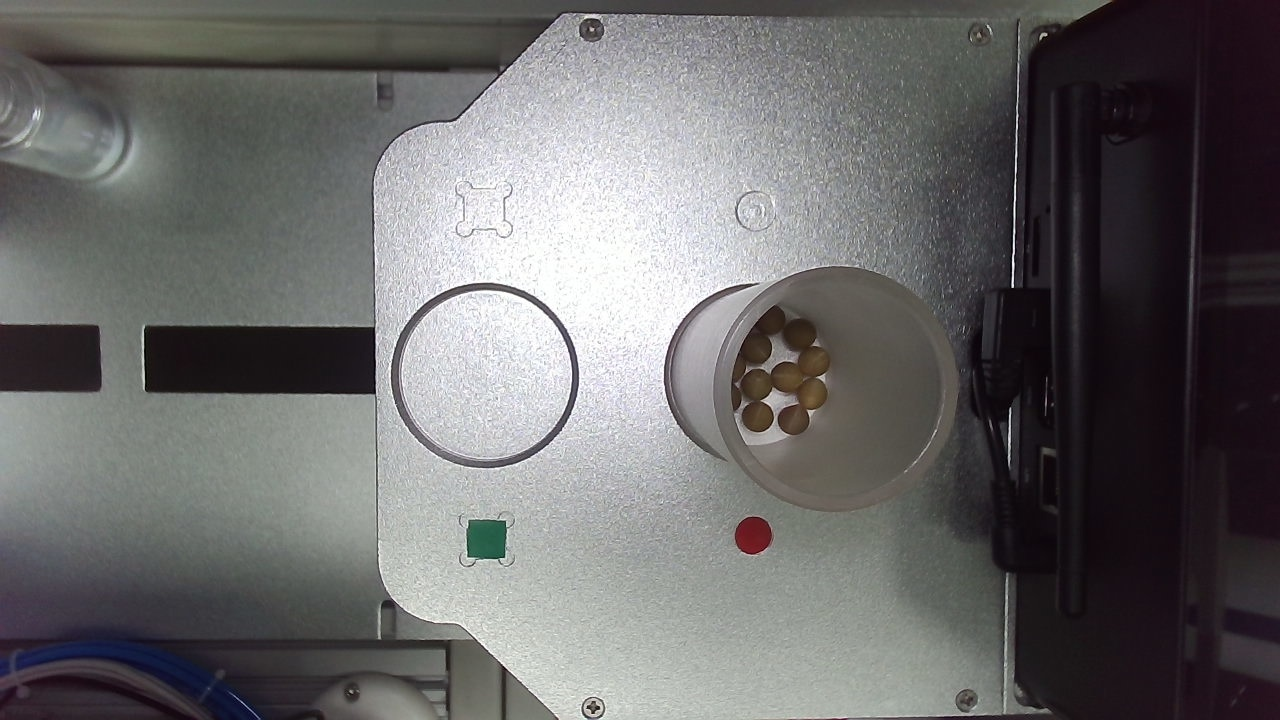XLabel: (604, 314, 638, 347)
YLabel: (381, 310, 416, 345)
none: (315, 384, 478, 547)
transparenexcept: (518, 383, 734, 600)
